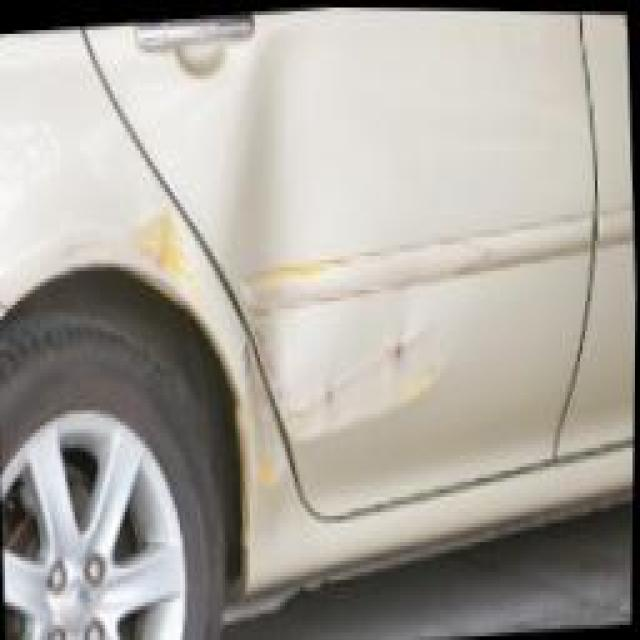Door: (228, 105, 514, 442)
Fender: (35, 154, 284, 520)
